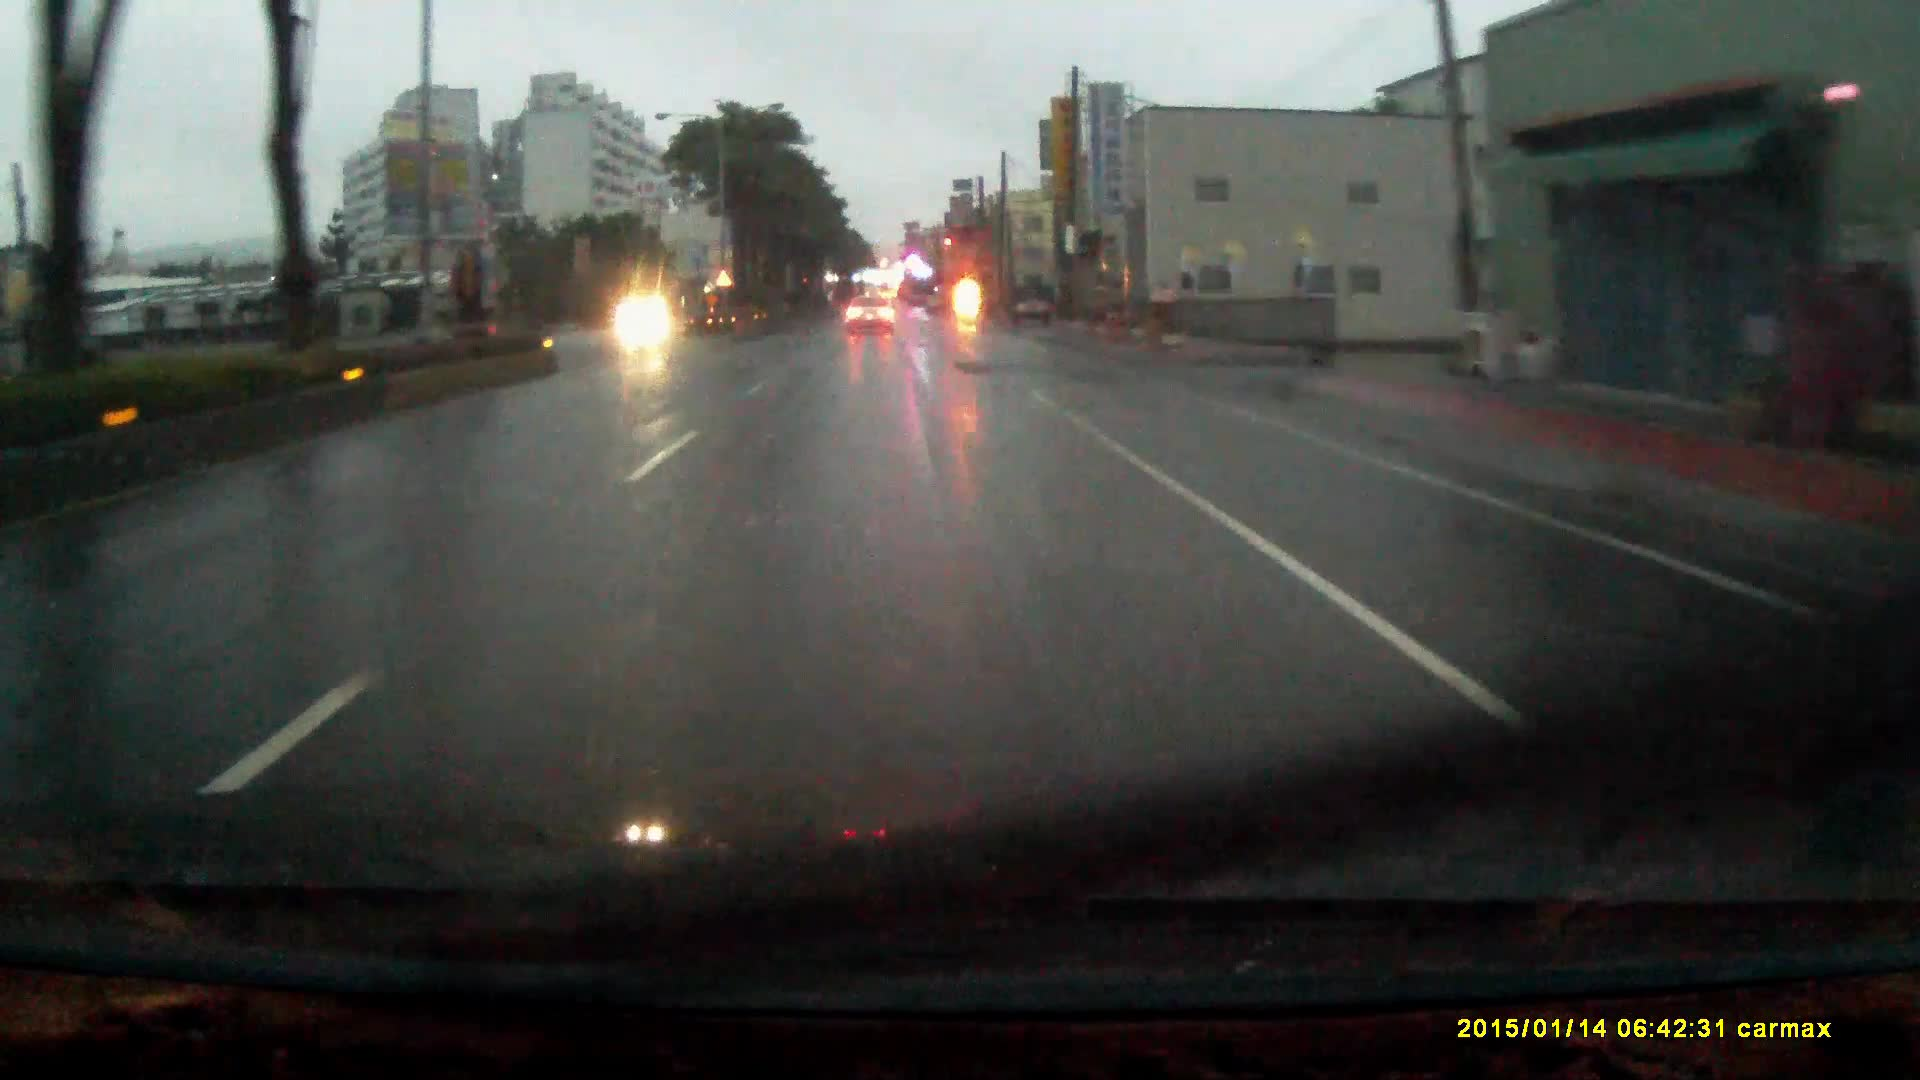vehicle: (847, 295, 898, 335), (1015, 285, 1052, 328)
